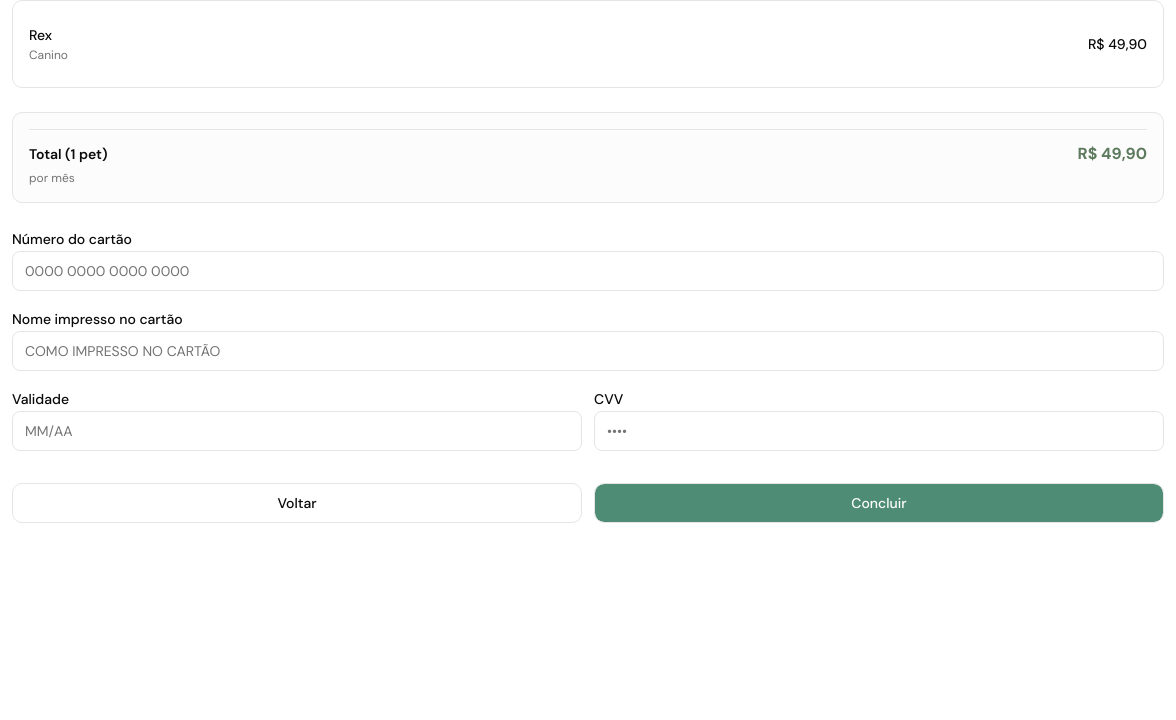
Test case: StepPagamento — form mode › should disable the Concluir button immediately on click (RF6)
Type "4000 0000 0000 0010" into the field labelled "Número do cartão" at (588, 271), box x1=12 y1=251 x2=1164 y2=291
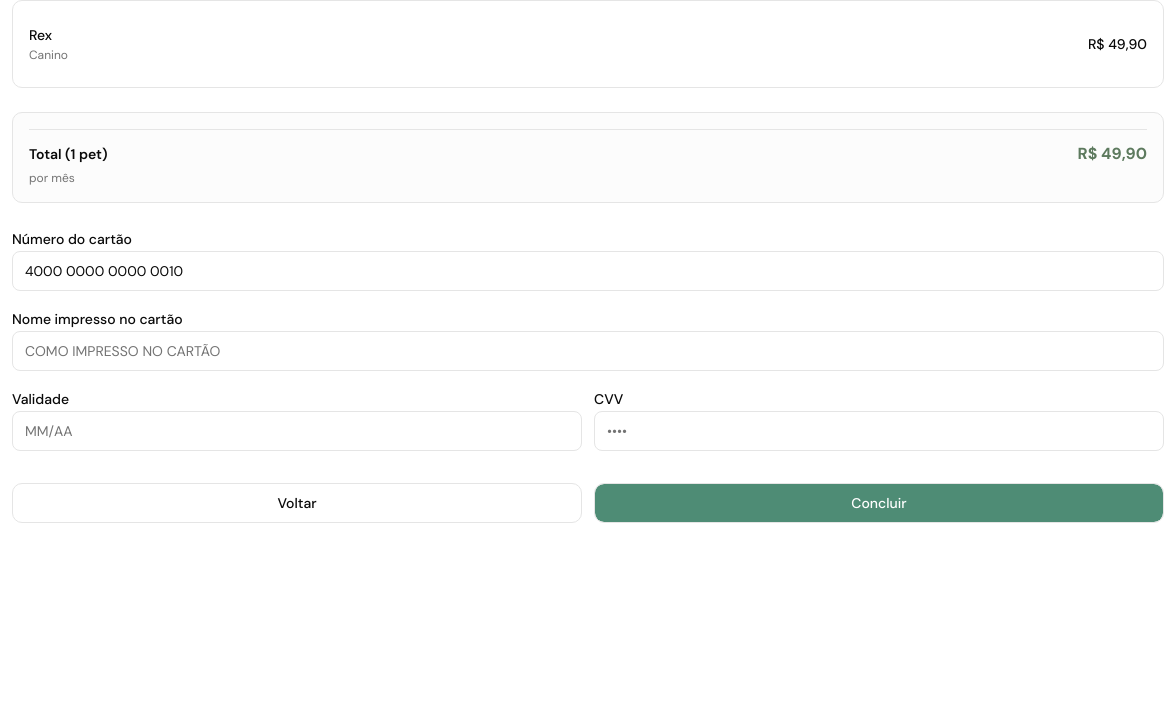
Type "Maria" into the field labelled "Nome impresso no cartão" at (588, 351), box x1=12 y1=331 x2=1164 y2=371
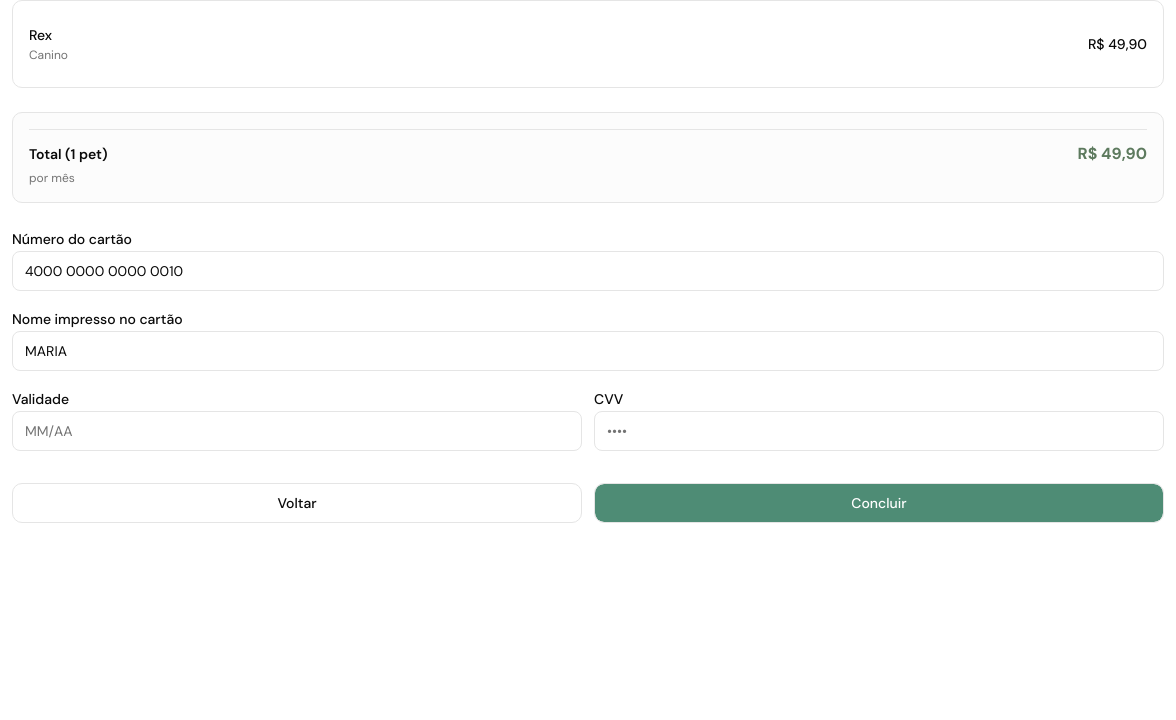
Type "12/30" into the field labelled "Validade" at (297, 431), box x1=12 y1=411 x2=582 y2=451
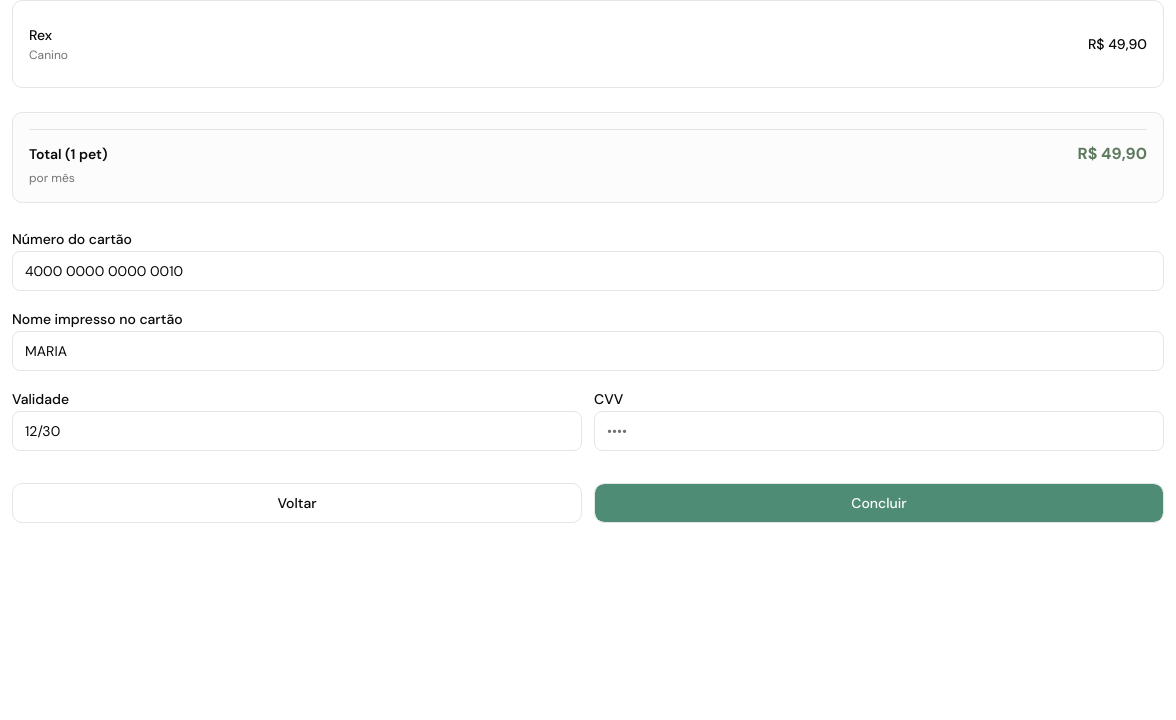
Type "123" into the field labelled "CVV" at (879, 431), box x1=594 y1=411 x2=1164 y2=451
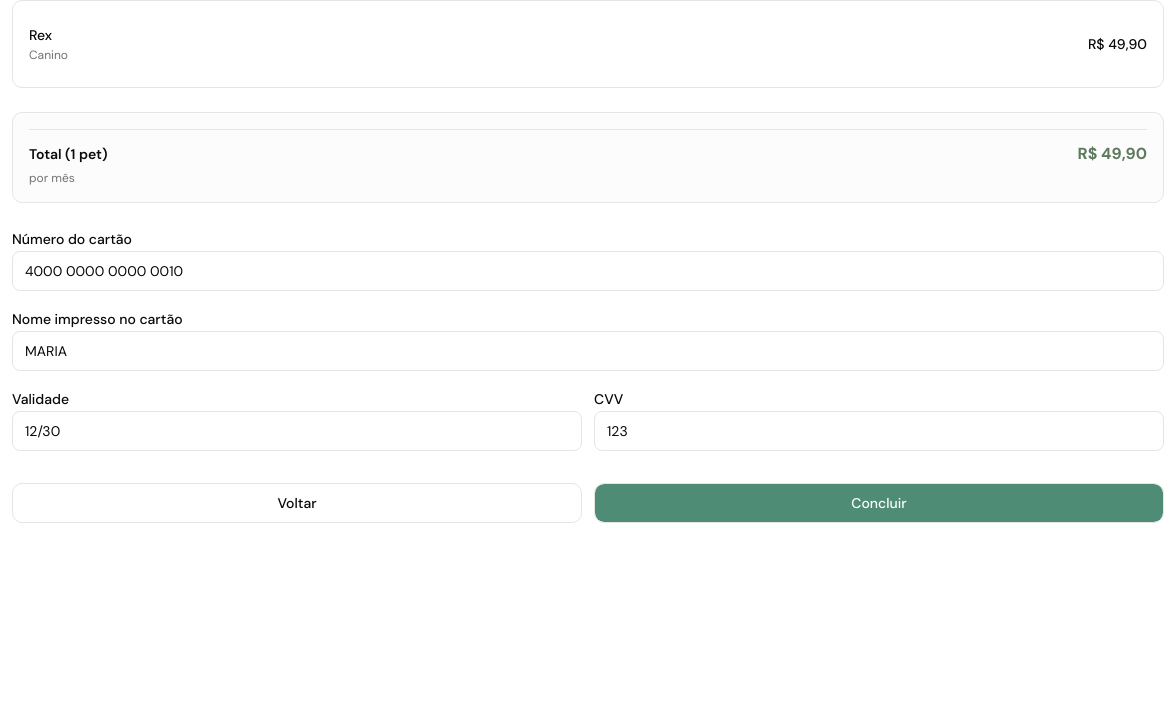
Click the button "Concluir" at (879, 503), box x1=594 y1=483 x2=1164 y2=523
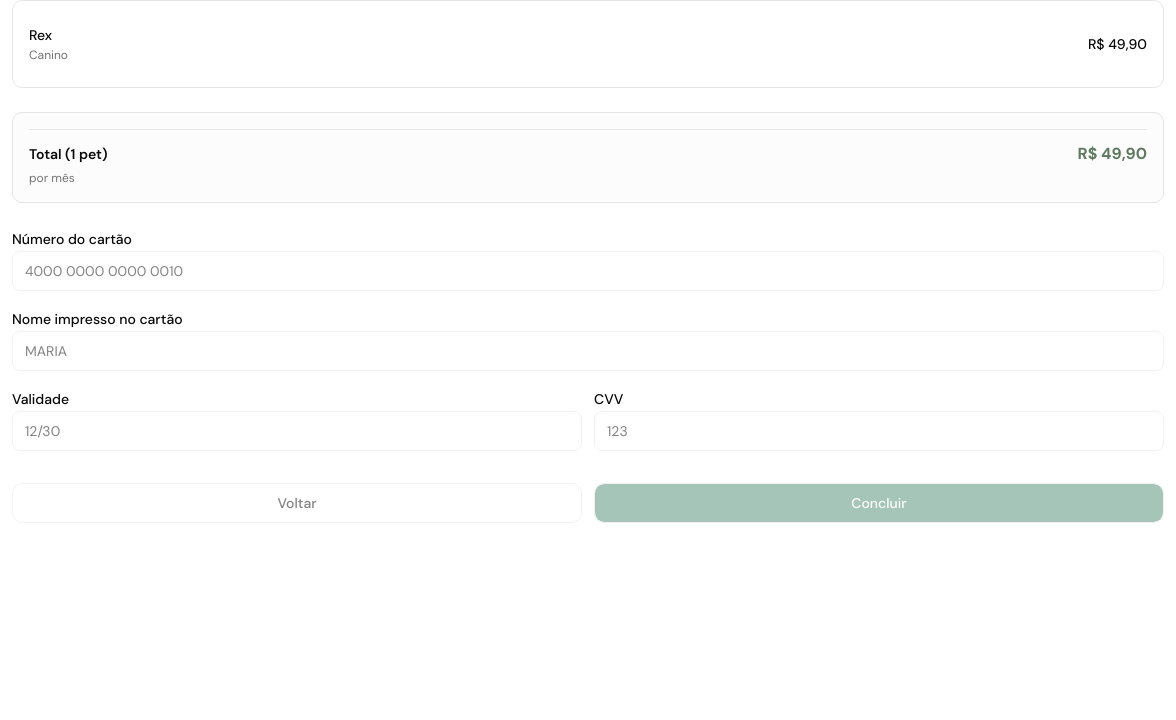
Result: the button "Concluir" is disabled at x1=594 y1=483 x2=1164 y2=523
